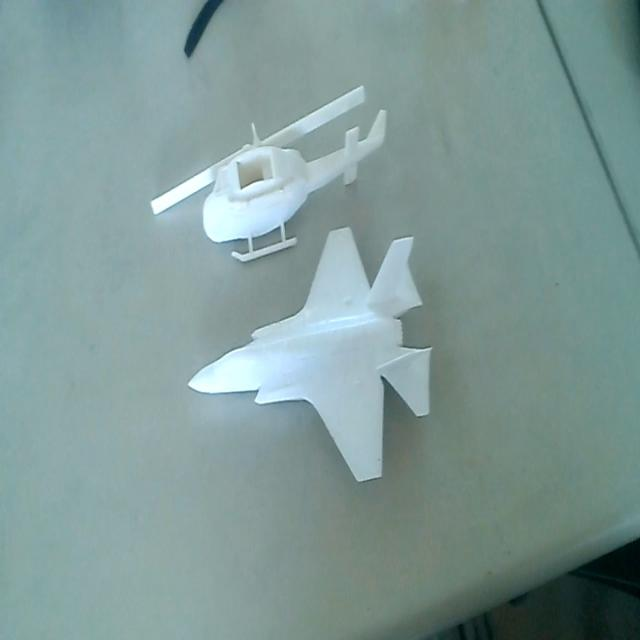Helicopter: (144, 79, 394, 267)
Jet: (182, 226, 437, 492)
